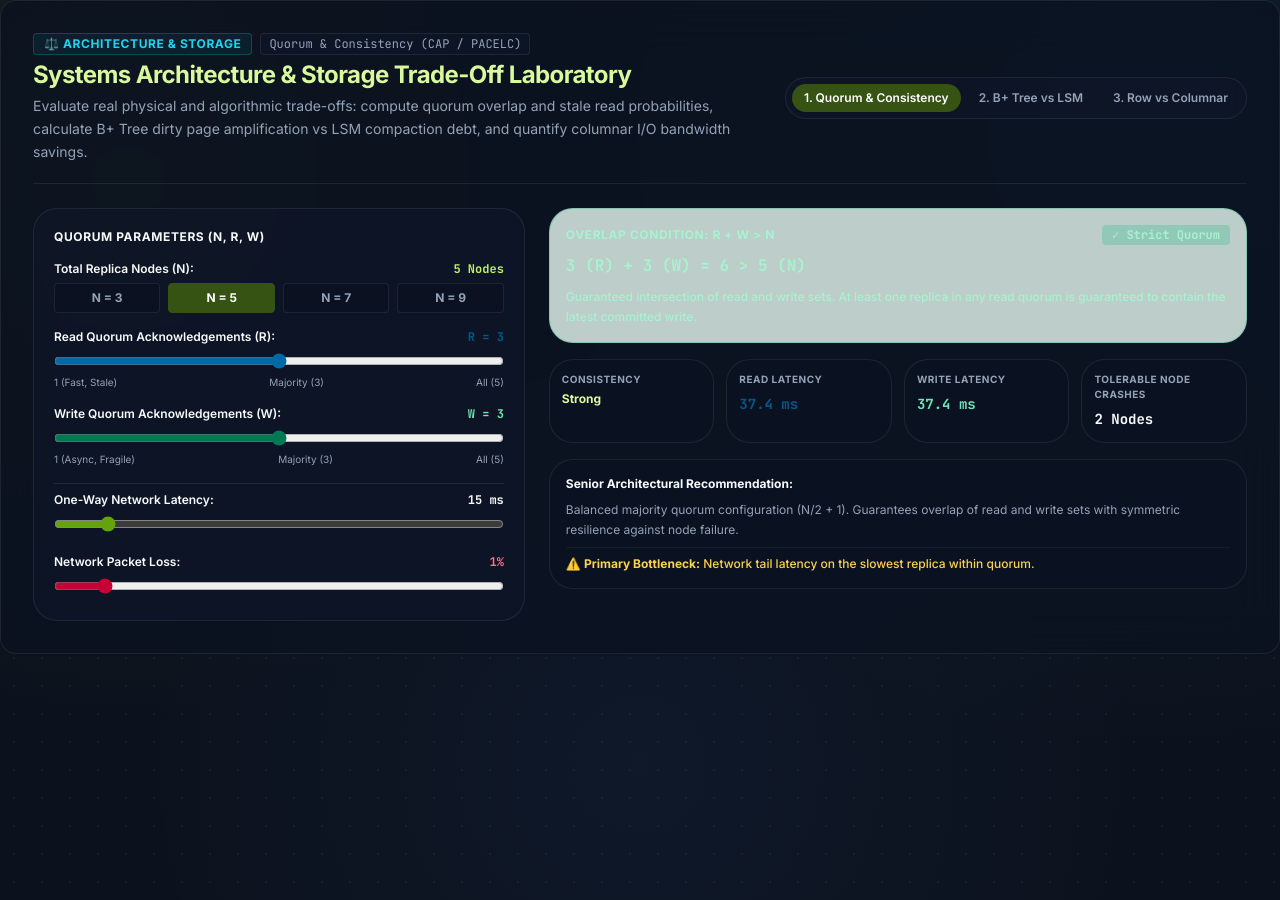
ArchitectureTradeoffSandbox Component › switches to B+ Tree vs LSM-Tree module and renders WAF & RAF comparisons
Click the button "2. B+ Tree vs LSM" at (1031, 98), box [967,84,1095,112]
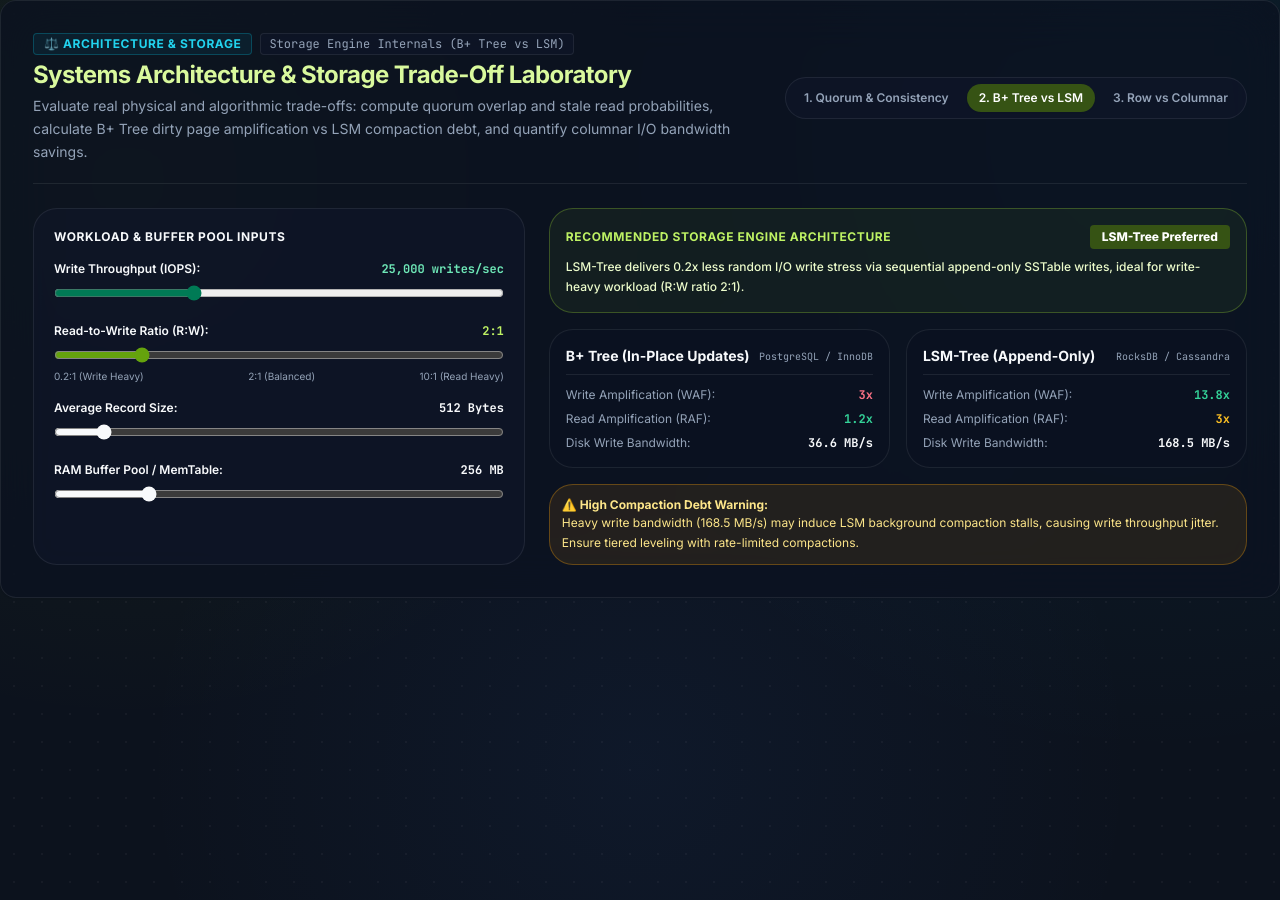
Expected: the heading "Workload & Buffer Pool Inputs" is shown, [54,229,286,244]
Expected: the text "B+ Tree (In-Place Updates)" is shown, [566,346,750,366]
Expected: the text "LSM-Tree (Append-Only)" is shown, [923,346,1095,366]
